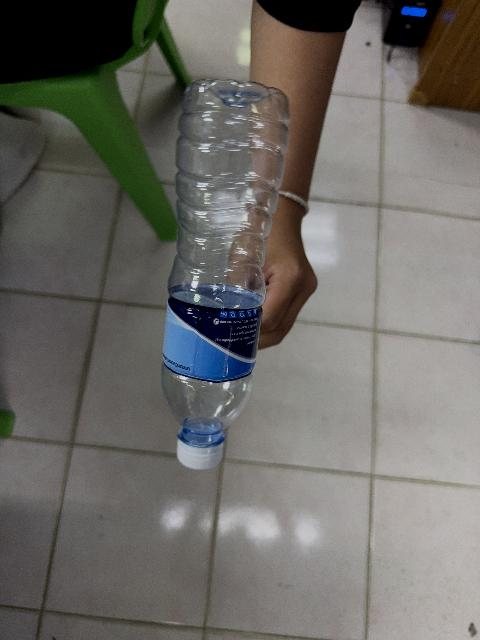bottle: (161, 80, 288, 468)
